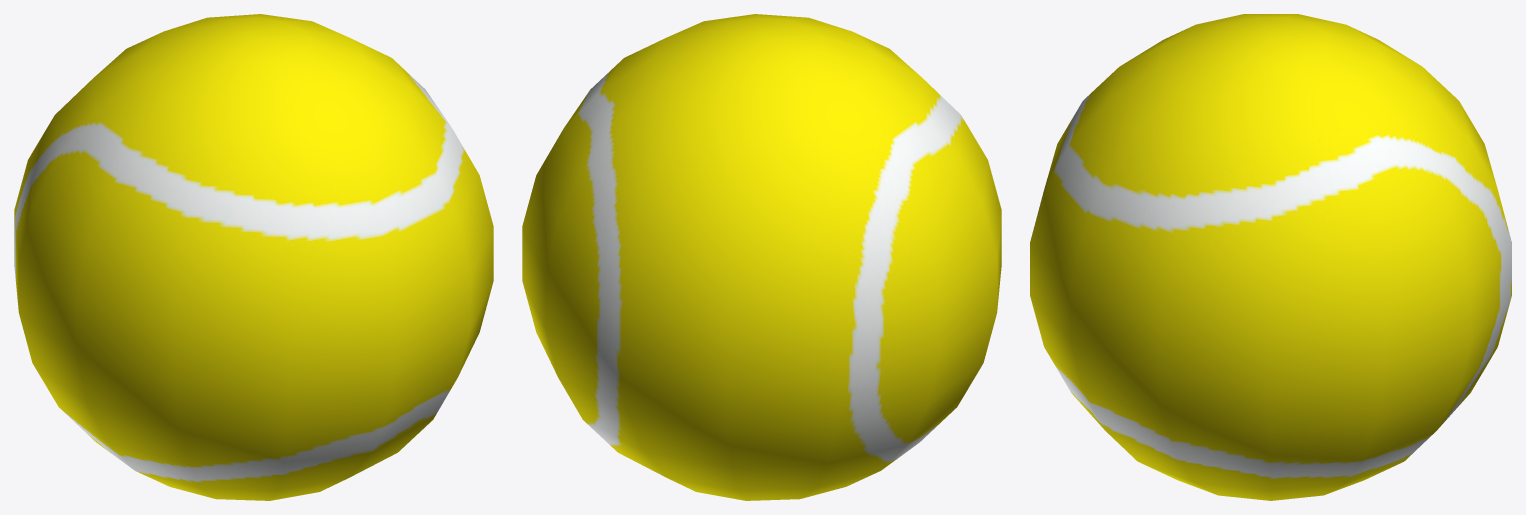
Rendered from tennisbal.dae.
The picture shows the model from 3 angles, left to right: view 1: azimuth 30°, elevation 25°; view 2: azimuth 150°, elevation 25°; view 3: azimuth 270°, elevation 25°; orthographic projection.
Visible parts, largest first — view 1: pSphere1; view 2: pSphere1; view 3: pSphere1.
Boxes of the visible parts, x1,y1,x2,y2 form: pSphere1: (14,14,493,500); pSphere1: (522,14,1001,500); pSphere1: (1030,14,1511,500).
Size of the model in its own units: 5.3 by 5.42 by 5.34.
